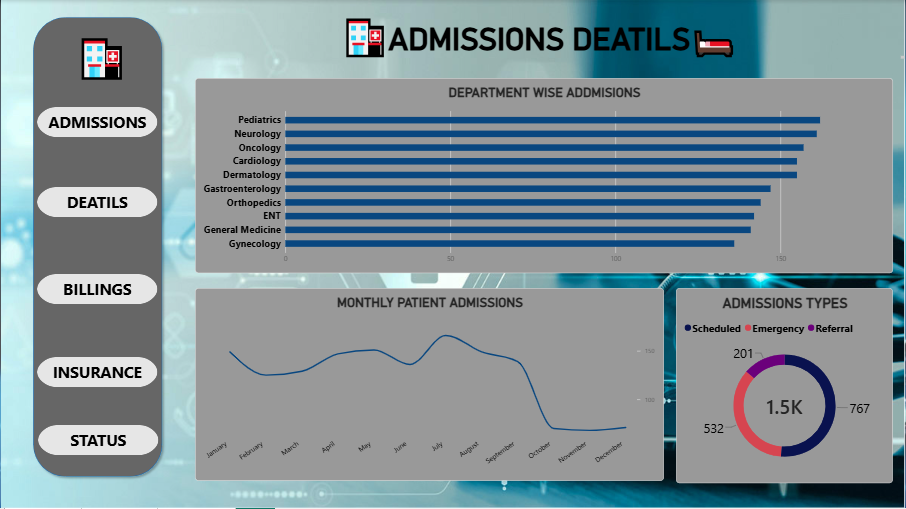

Layout of this report page (visuals, bound fields, positions):
{"tool":"powerbi","page":{"name":"Dashboard","canvas":[1920,1080],"ordinal":1},"visuals":[{"type":"image","box":[0,0,1920,1079.2],"z":0},{"type":"shape","box":[59,28.2,292.2,994.6],"z":7000},{"type":"actionButton","box":[76.9,228.1,256.3,64.1],"z":8000},{"type":"actionButton","title":"DEATILS","box":[76.9,397.3,256.3,64.1],"z":9000},{"type":"actionButton","box":[76.9,581.9,256.3,64.1],"z":10000},{"type":"actionButton","box":[76.9,758.8,256.3,64.1],"z":11000},{"type":"lineChart","title":"MONTHLY PATIENT ADMISSIONS","fields":{"Category":["Hospital Data.Admission Date.Variation.Date Hierarchy.Month"],"Y2":["CountNonNull(Hospital Data.Patient ID)"]},"box":[412.7,612.7,997.2,410.1],"z":12000},{"type":"barChart","title":"DEPARTMENT WISE ADDMISIONS","fields":{"Category":["Hospital Data.Department"],"Y":["CountNonNull(Hospital Data.Patient ID)"]},"box":[412.7,166.6,1484.2,415.3],"z":16000},{"type":"textbox","title":"🏥ADMISSIONS DEATILS🛏️","box":[369.1,28.2,1550.9,97.4],"z":17000},{"type":"donutChart","title":" ADMISSIONS TYPES","fields":{"Category":["Hospital Data.Admission Type"],"Y":["CountNonNull(Hospital Data.Patient ID)"]},"box":[1435.5,612.7,461.4,415.3],"z":18000},{"type":"actionButton","box":[77.7,902.5,256.3,64.1],"z":37000},{"type":"actionButton","box":[22.3,33.5,381.8,176.4],"z":41001}]}

Visuals, with their boxes in screenshot pixels (x1, y1, x2, y2), scaled from the page's 1920x1080 canvas onto the 906x509 screenshot:
image: box=[0, 0, 905, 508]
shape: box=[28, 13, 166, 482]
actionButton: box=[36, 108, 157, 138]
"DEATILS" actionButton: box=[36, 187, 157, 217]
actionButton: box=[36, 274, 157, 304]
actionButton: box=[36, 358, 157, 388]
"MONTHLY PATIENT ADMISSIONS" lineChart: box=[195, 289, 665, 482]
"DEPARTMENT WISE ADDMISIONS" barChart: box=[195, 79, 895, 274]
"🏥ADMISSIONS DEATILS🛏️" textbox: box=[174, 13, 905, 59]
" ADMISSIONS TYPES" donutChart: box=[677, 289, 895, 484]
actionButton: box=[37, 425, 158, 456]
actionButton: box=[11, 16, 191, 99]
